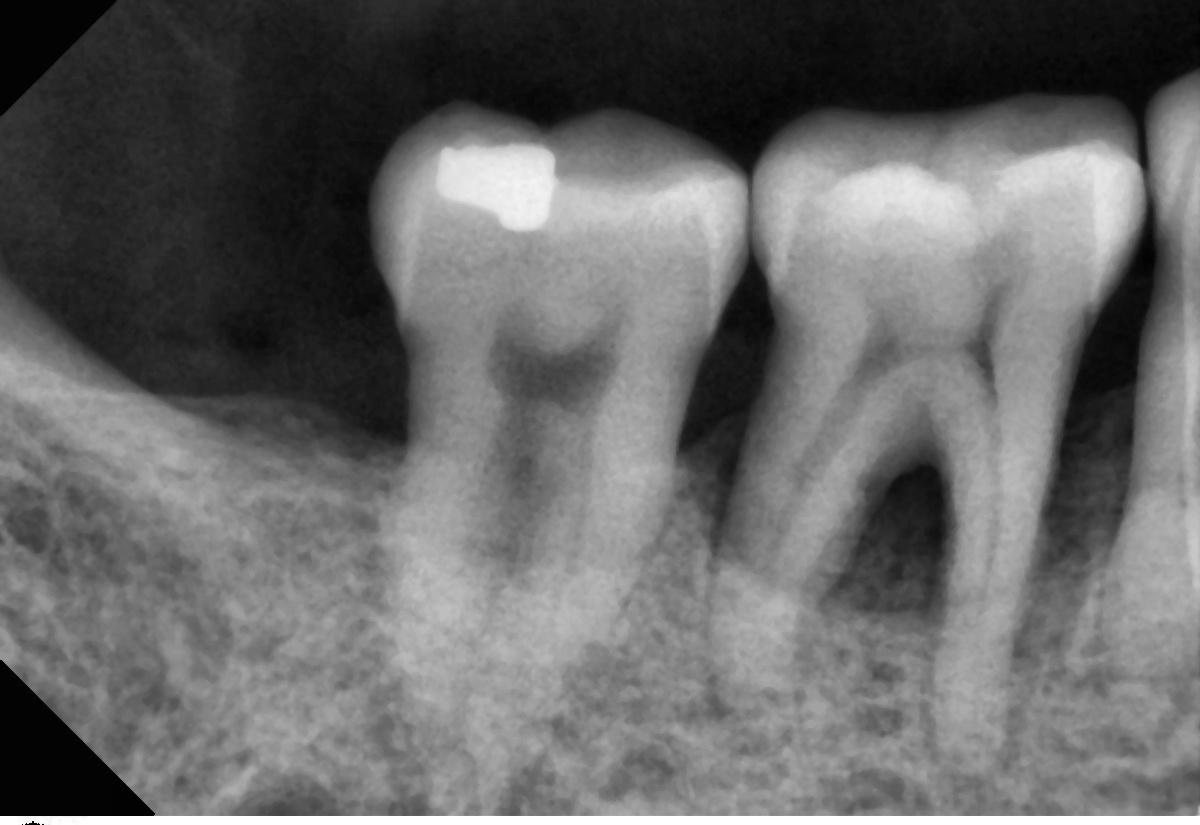Individual Tooth: (710, 96, 1144, 768), (375, 105, 748, 734), (1104, 70, 1200, 675)
